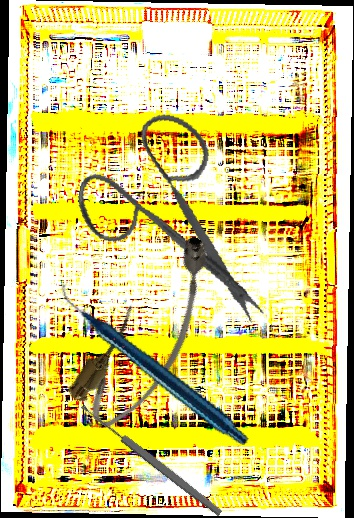Cannula: (62, 226, 241, 439)
Handpiece: (60, 247, 250, 480)
Iris Scissors: (59, 98, 303, 329)
Surgical Spoon: (79, 401, 224, 518)
